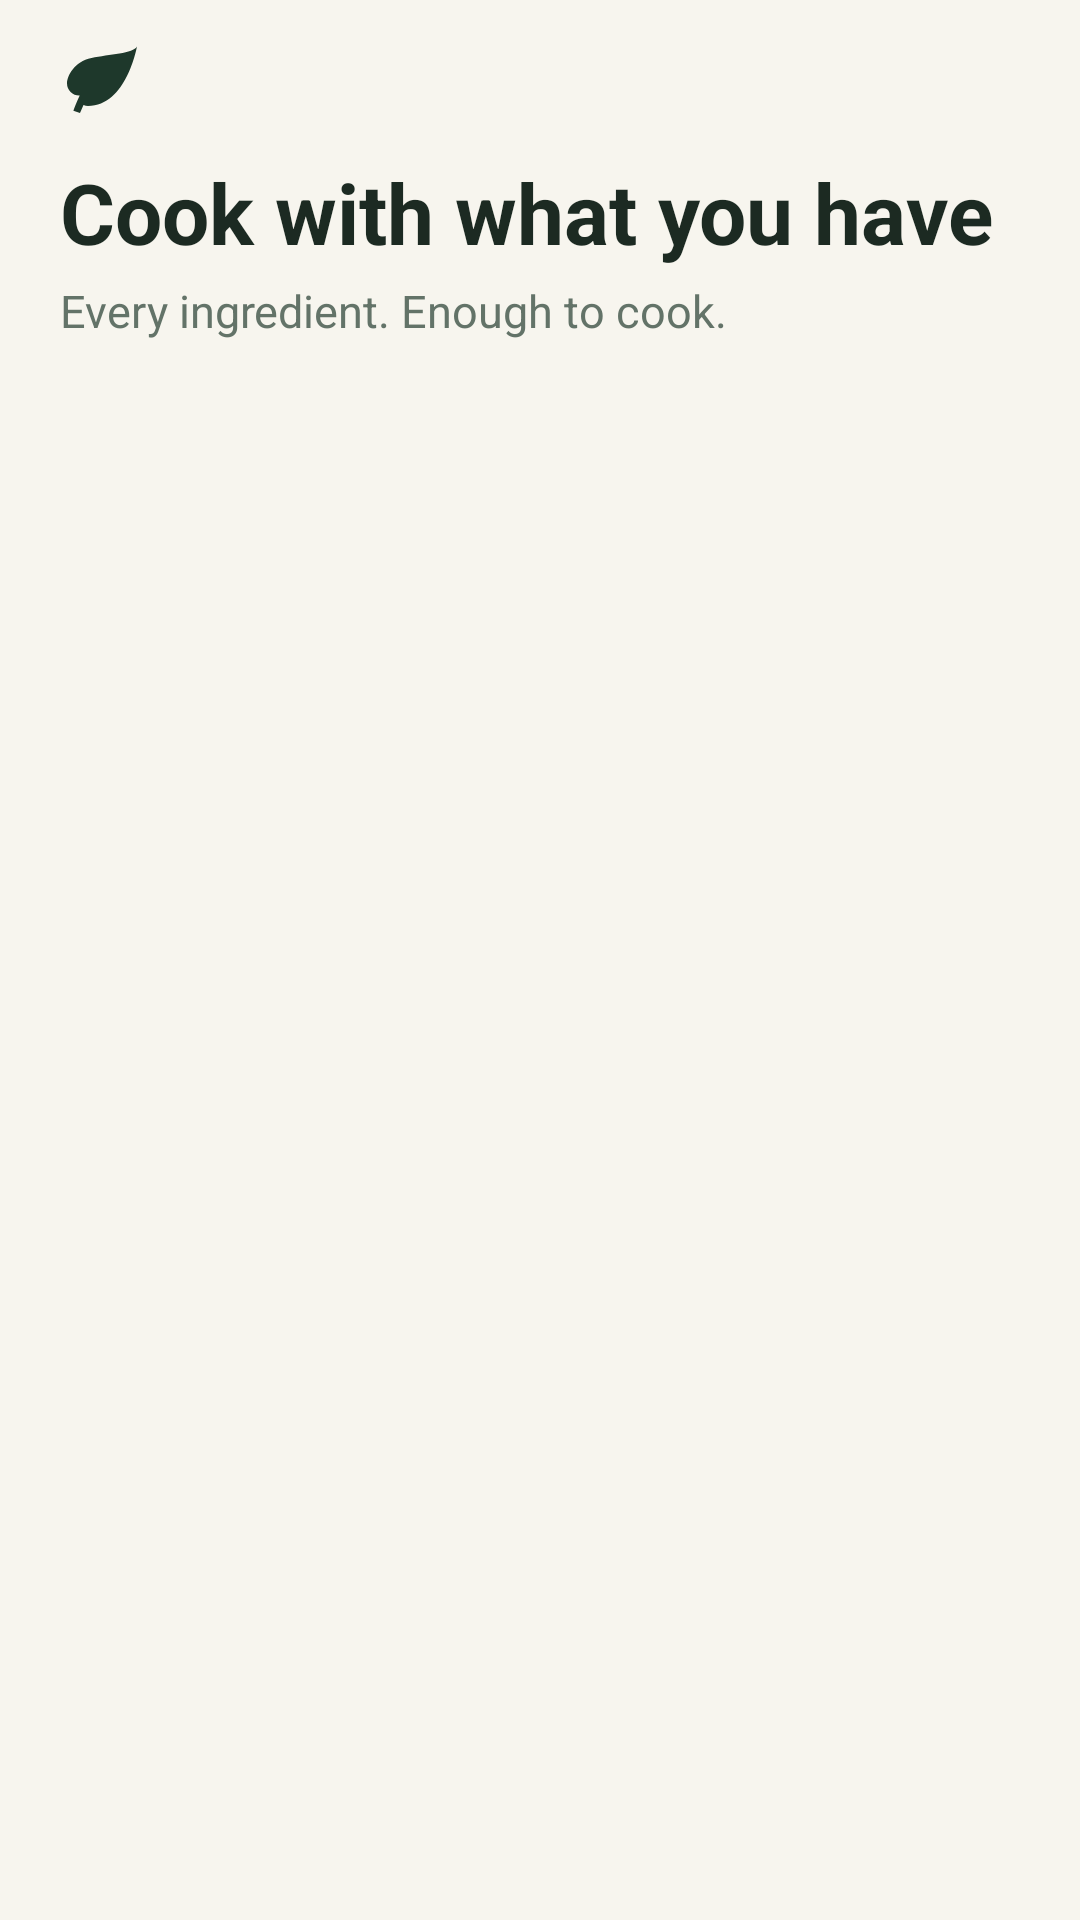

Locate icon controls on the screen. Image size 1080x1920, boxes as bbox(x1, y1, x2, y2).
leaf: bbox(67, 47, 137, 113)
